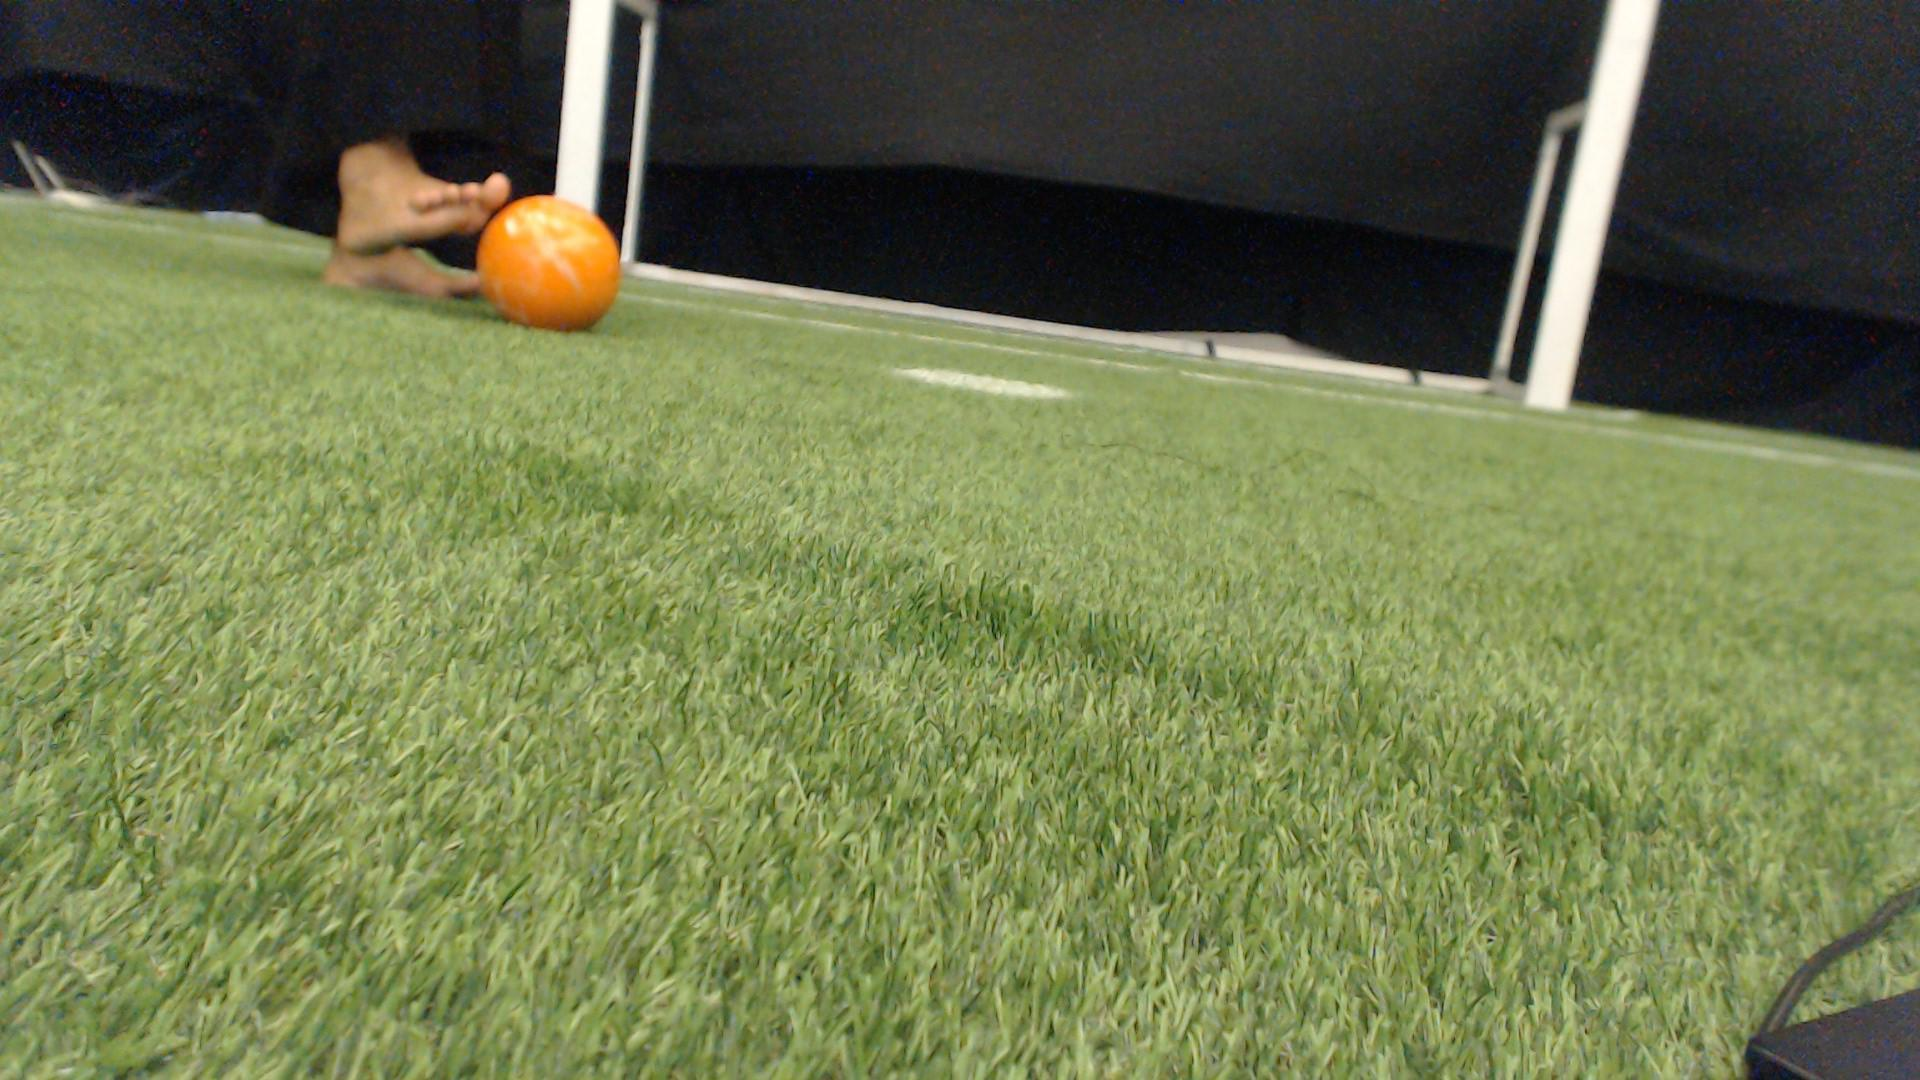bola: (481, 193, 629, 334)
